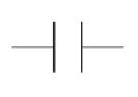Capacitor: (35, 11, 102, 78)
